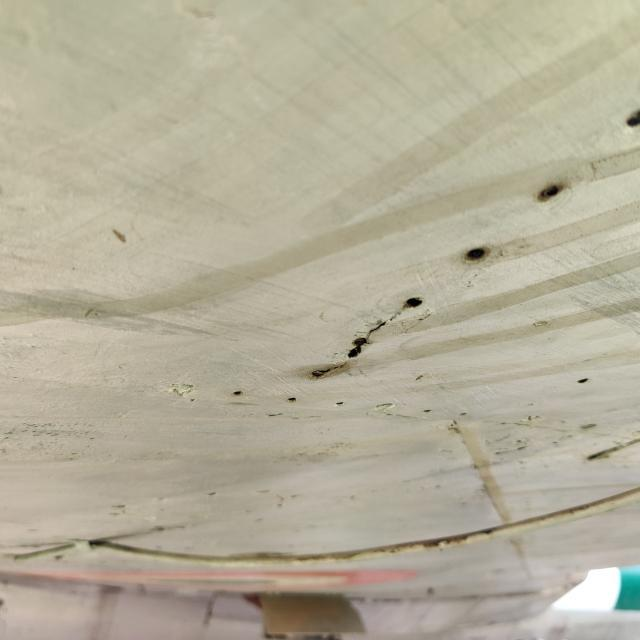crack: (299, 285, 430, 388)
